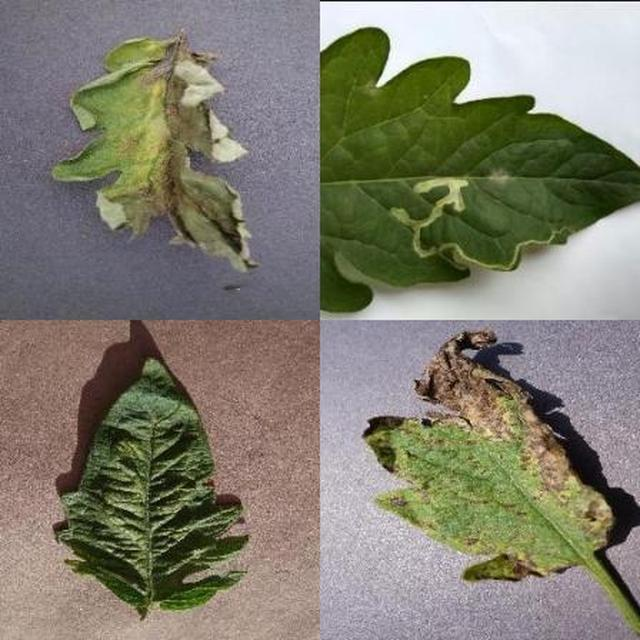Late Blight Leaf: (221, 221, 640, 640)
